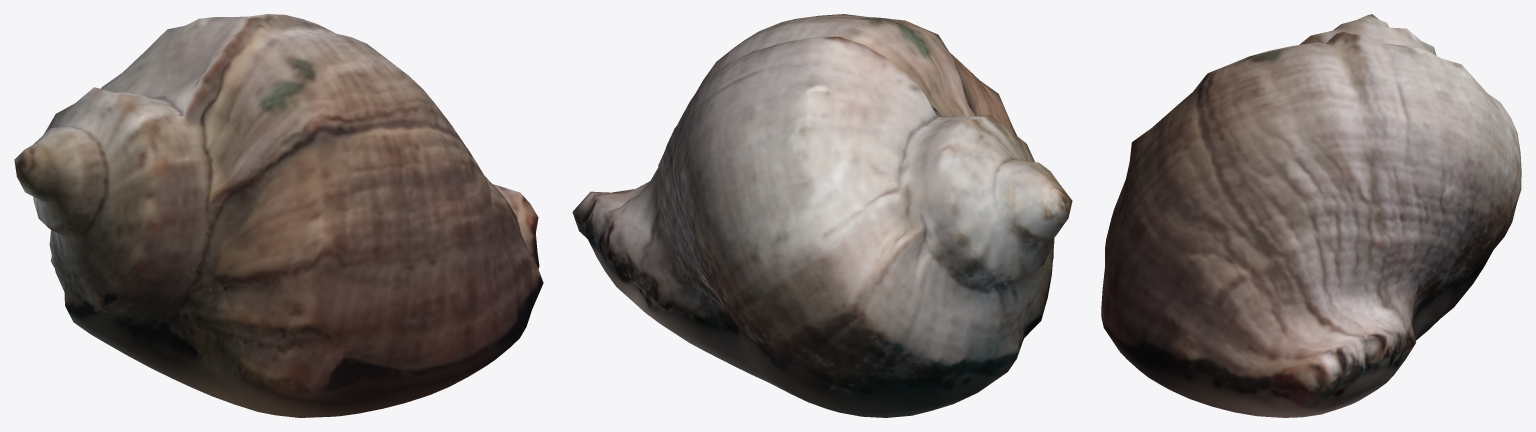
The model's file is Seashell2.fbx.
The picture shows the model from 3 angles, left to right: view 1: azimuth 30°, elevation 25°; view 2: azimuth 150°, elevation 25°; view 3: azimuth 270°, elevation 25°; orthographic projection. The views are drawn at different scales.
Visible parts, largest first — view 1: shell_2_lp.001; view 2: shell_2_lp.001; view 3: shell_2_lp.001.
Boxes of the visible parts, x1,y1,x2,y2 form: shell_2_lp.001: (14,14,543,417); shell_2_lp.001: (572,14,1072,417); shell_2_lp.001: (1101,14,1521,417).
Bounding box in the file's own units: 202 × 139 × 158.
